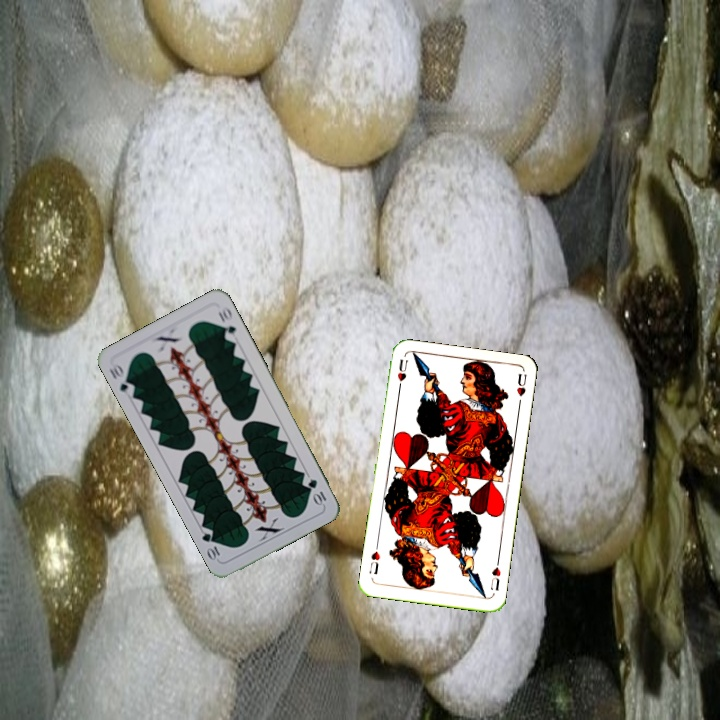G10: (105, 360, 138, 399), (304, 475, 329, 508)
HU: (393, 355, 410, 394), (487, 563, 503, 593)
